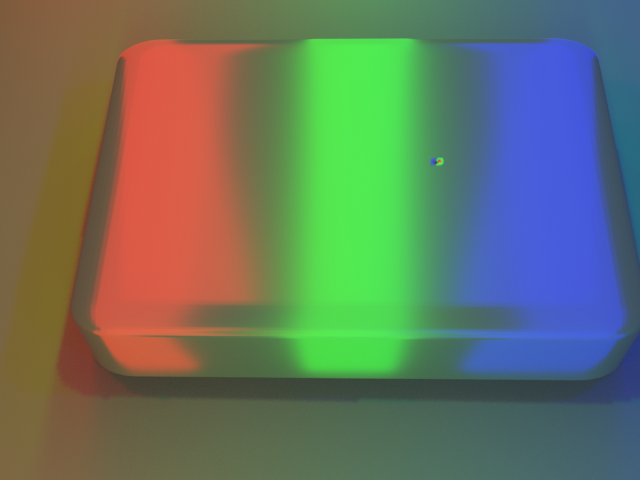dent: (432, 139, 466, 172)
